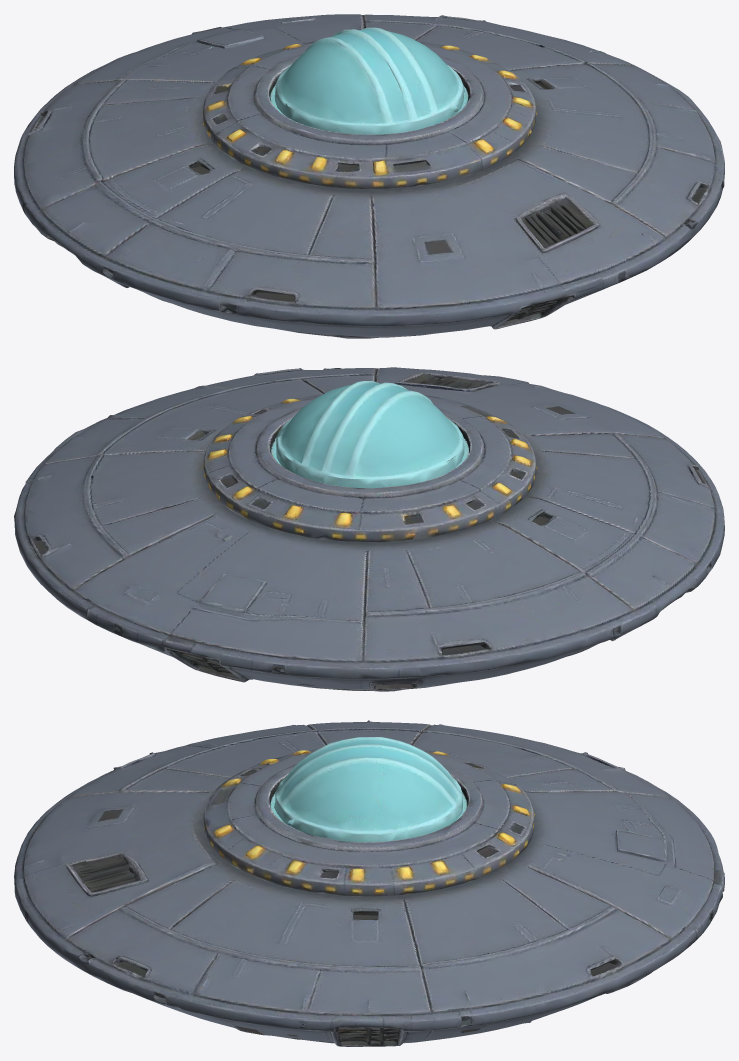
The model's file is mothership.glb.
3 views of the same model, one above another, from view 1: azimuth 30°, elevation 25°; view 2: azimuth 150°, elevation 25°; view 3: azimuth 270°, elevation 25° (orthographic).
Visible parts, largest first — view 1: geometry_0; view 2: geometry_0; view 3: geometry_0.
Part boxes in pixels (x1,y1,x2,y2): geometry_0: [14, 14, 724, 338]; geometry_0: [14, 367, 724, 691]; geometry_0: [14, 720, 724, 1046].
Size of the model in its own units: 0.9971 by 0.3637 by 0.9994.
1 material, 1 textured.
